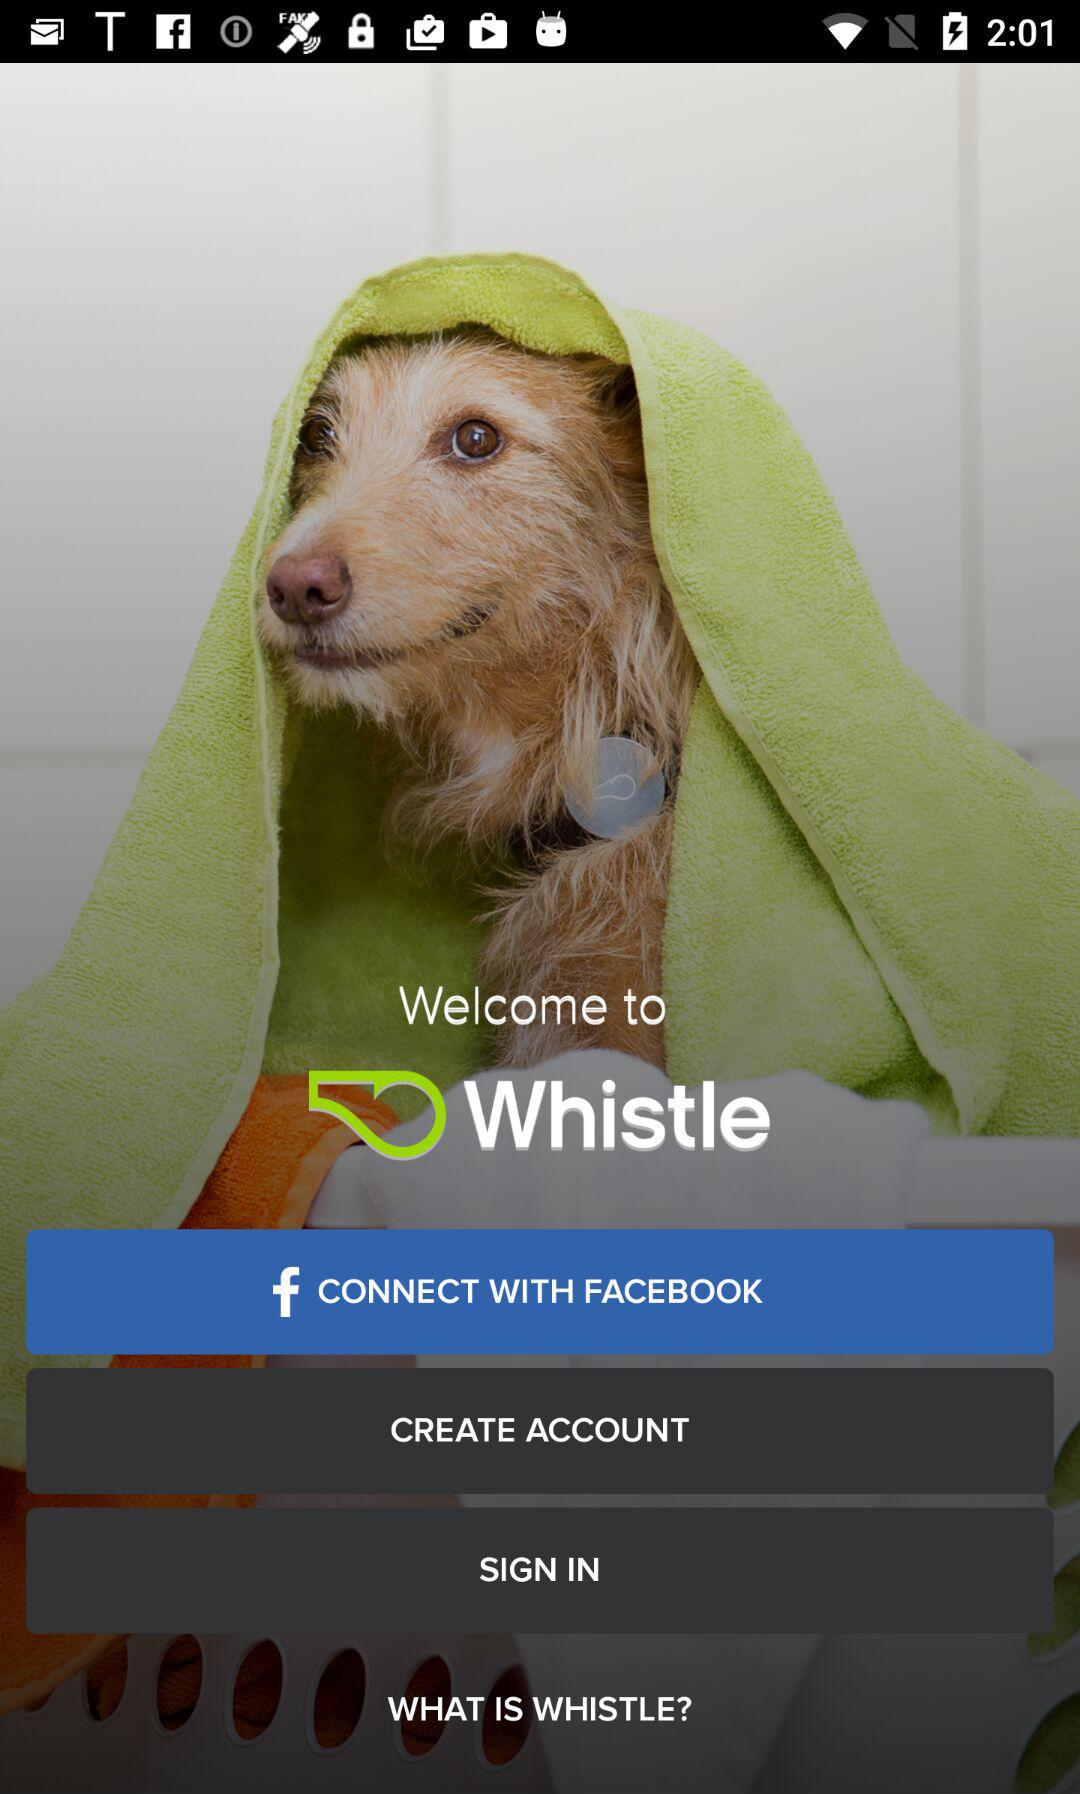BackgroundImage: (1, 64, 1080, 1794)
Image: (309, 1070, 771, 1162)
Text: (398, 985, 667, 1026), (388, 1695, 693, 1722)
TextButton: (27, 1507, 1054, 1634), (27, 1369, 1054, 1495), (27, 1229, 1054, 1354)
UpperTaskBar: (1, 1, 1080, 64)
